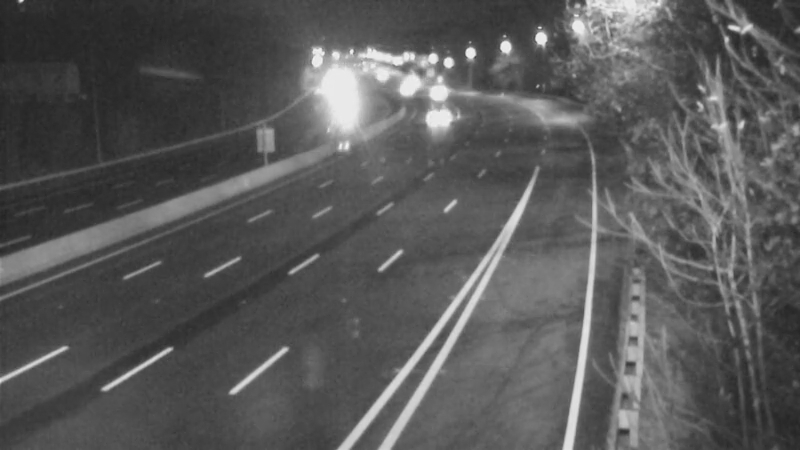vehicle: (353, 50, 403, 100), (375, 64, 425, 114), (416, 67, 466, 117), (405, 96, 455, 146)
